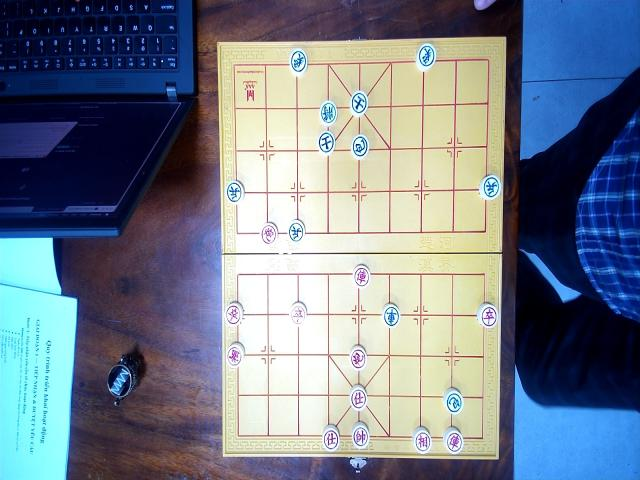piece: (415, 42, 436, 70), (478, 174, 500, 200), (412, 426, 432, 454), (443, 387, 463, 415), (477, 301, 497, 328), (288, 48, 308, 75), (442, 427, 462, 453), (322, 425, 341, 452), (351, 422, 370, 449), (349, 383, 367, 410), (350, 344, 368, 371), (226, 342, 245, 367), (382, 302, 401, 327), (319, 99, 337, 125), (352, 263, 370, 288), (350, 90, 368, 115), (351, 133, 369, 158), (225, 178, 243, 202), (317, 131, 335, 155), (226, 301, 243, 325), (291, 300, 307, 325), (288, 219, 304, 242), (260, 222, 276, 244)
